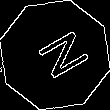N_SW: (23, 25, 87, 85)
